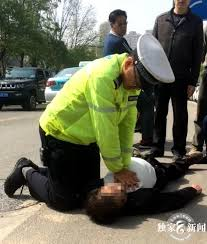fall: (83, 142, 205, 224)
